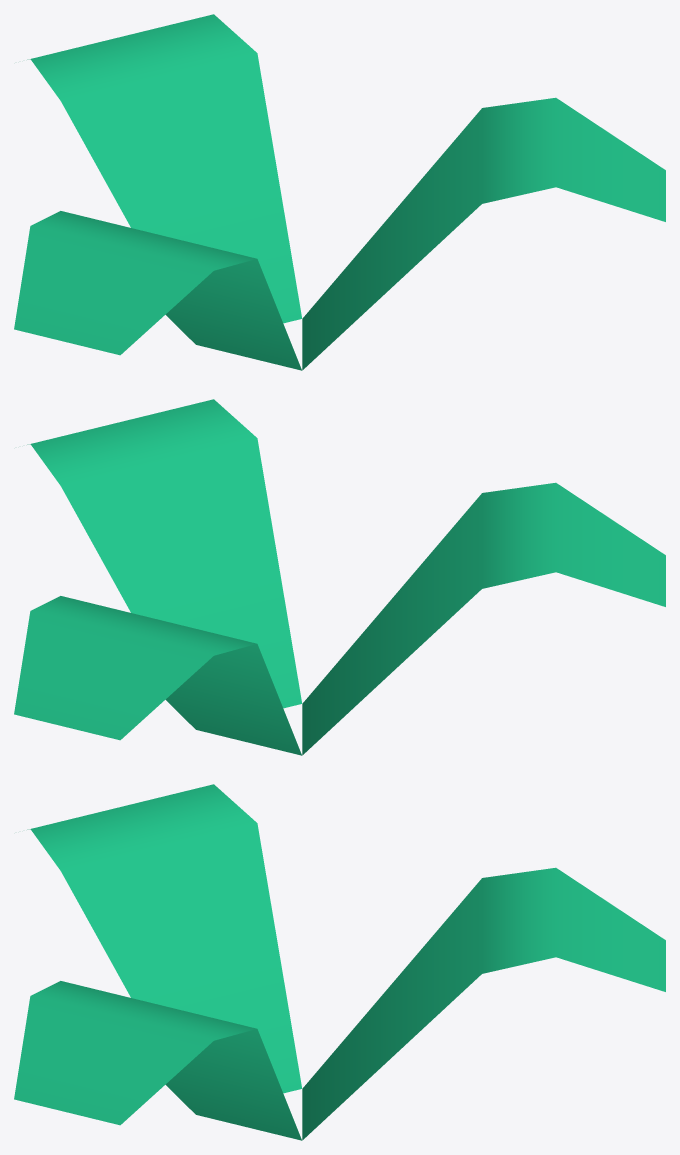
The model's file is plant.obj.
The picture shows the model from 3 angles, top to bottom: view 1: azimuth 30°, elevation 25°; view 2: azimuth 150°, elevation 25°; view 3: azimuth 270°, elevation 25°; orthographic projection.
Parts seen in each view (by area): view 1: plant; view 2: plant; view 3: plant.
Boxes of the visible parts, x1,y1,x2,y2 form: plant: (14,14,665,370); plant: (14,399,665,755); plant: (14,784,665,1140).
Bounding box in the file's own units: 0.5514 × 0.1635 × 0.4775.
